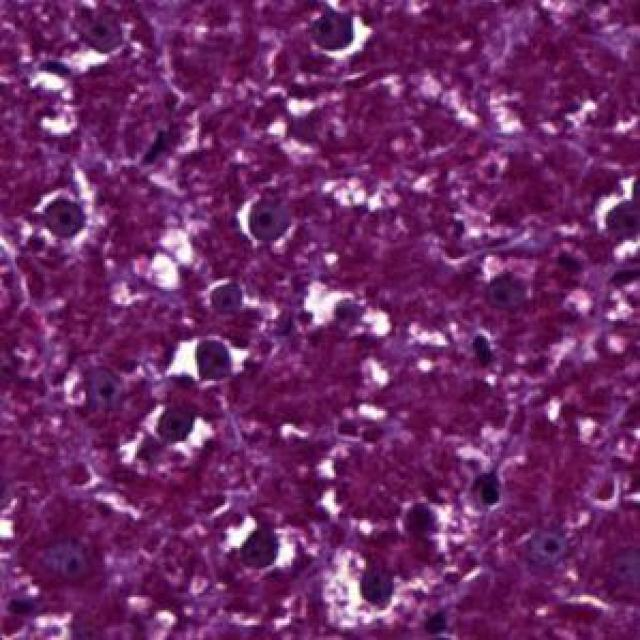inflammation: (156, 336, 261, 392), (26, 182, 102, 257), (334, 559, 407, 629), (217, 516, 296, 574), (229, 195, 302, 257), (146, 402, 218, 462), (302, 6, 372, 60)
